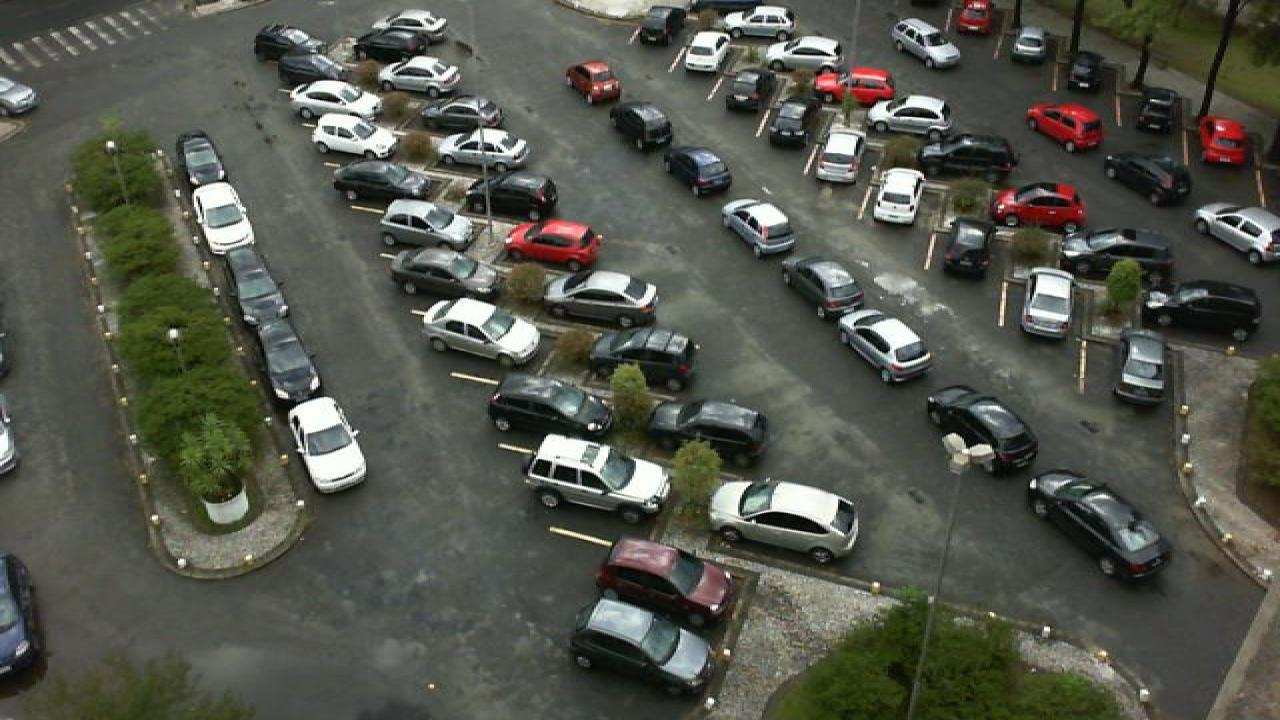Car: (1028, 469, 1174, 578), (566, 596, 714, 702), (524, 432, 670, 523), (708, 478, 862, 564), (592, 537, 734, 623), (926, 385, 1036, 475), (488, 373, 616, 446), (420, 296, 540, 368), (646, 400, 768, 467), (284, 396, 368, 493), (1142, 280, 1264, 342), (838, 309, 936, 386), (590, 324, 696, 394), (540, 269, 660, 328), (388, 245, 500, 303), (1060, 228, 1170, 283), (254, 318, 322, 402), (1190, 204, 1280, 266), (778, 255, 864, 318), (460, 170, 560, 224), (378, 197, 476, 252), (504, 217, 600, 272), (1102, 151, 1192, 208), (988, 184, 1086, 236), (432, 127, 532, 176), (720, 198, 798, 258), (308, 110, 400, 159), (192, 180, 254, 252), (1020, 266, 1078, 342), (230, 282, 298, 346), (918, 132, 1016, 176), (1112, 327, 1168, 403), (220, 243, 286, 307), (332, 160, 424, 204), (376, 55, 464, 100), (862, 94, 952, 138), (1026, 102, 1104, 152), (288, 79, 380, 119), (890, 17, 960, 69), (664, 144, 732, 197), (942, 216, 996, 279), (422, 95, 504, 136), (608, 100, 672, 150), (868, 168, 922, 226), (174, 129, 226, 189), (1196, 114, 1254, 166), (252, 24, 328, 62), (768, 36, 842, 73), (814, 127, 862, 183), (564, 58, 622, 104), (354, 28, 426, 63), (280, 54, 352, 87), (722, 5, 796, 37), (766, 97, 812, 147), (836, 66, 896, 104), (1134, 87, 1182, 134), (1062, 49, 1110, 96), (378, 9, 448, 41), (634, 6, 688, 46), (682, 30, 726, 76), (720, 65, 764, 109), (1010, 25, 1050, 64), (954, 0, 992, 37), (814, 65, 848, 99)
